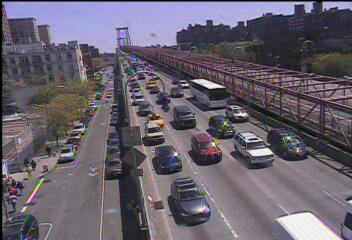neg: (84, 161, 102, 184), (77, 128, 93, 149), (103, 85, 110, 95)
pos: (4, 190, 22, 213), (39, 141, 55, 162), (21, 161, 35, 180)
